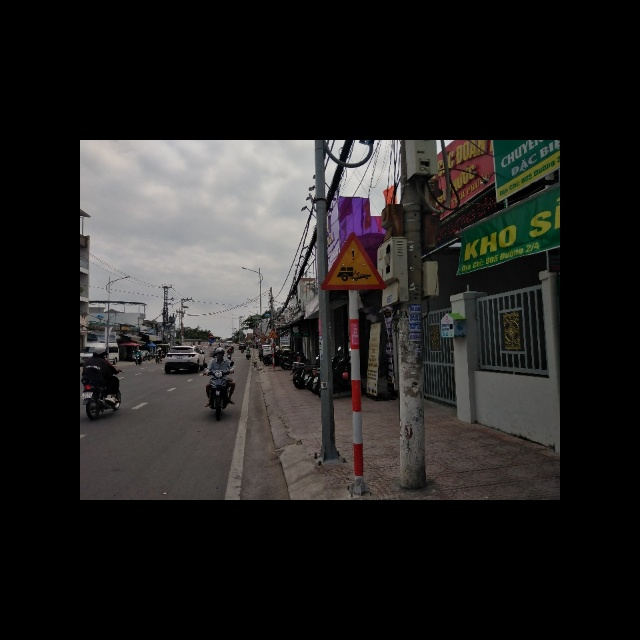Đoạn đường hay xảy ra tai nạn: (319, 232, 384, 290)
